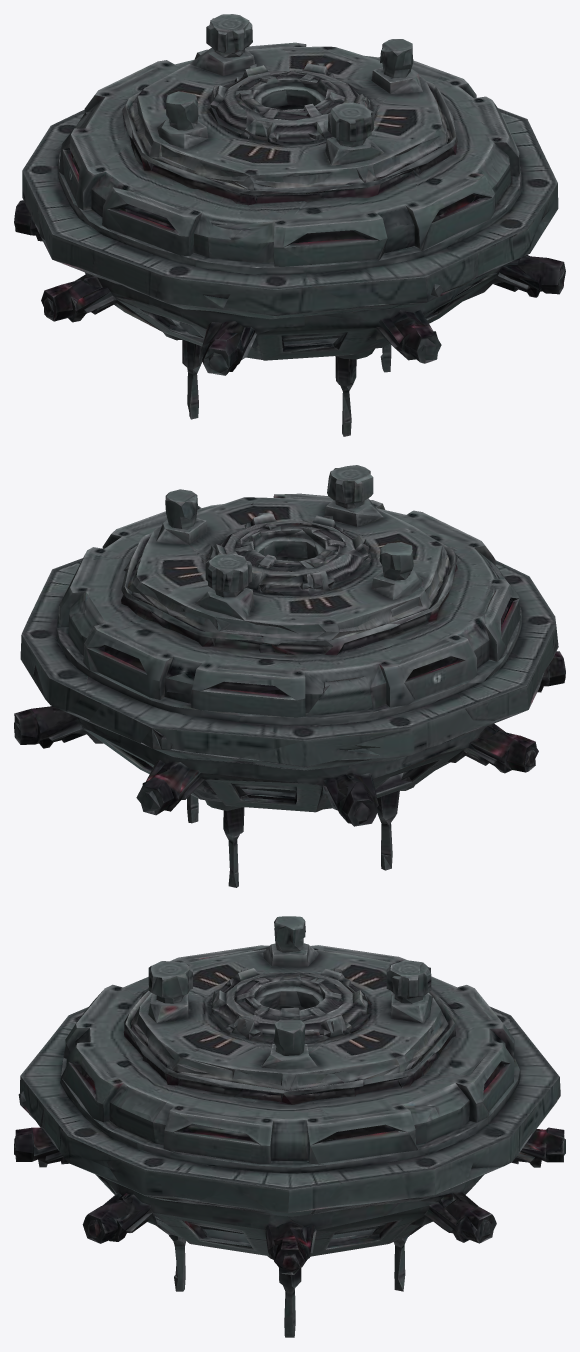
File: enemy-cinder-fortress.glb
3 renders of one model, top to bottom at view 1: azimuth 30°, elevation 25°; view 2: azimuth 150°, elevation 25°; view 3: azimuth 270°, elevation 25°, orthographic.
Size of the model in its own units: 1.9 by 1.22 by 1.9.
Materials: 1 (1 with a texture image).
